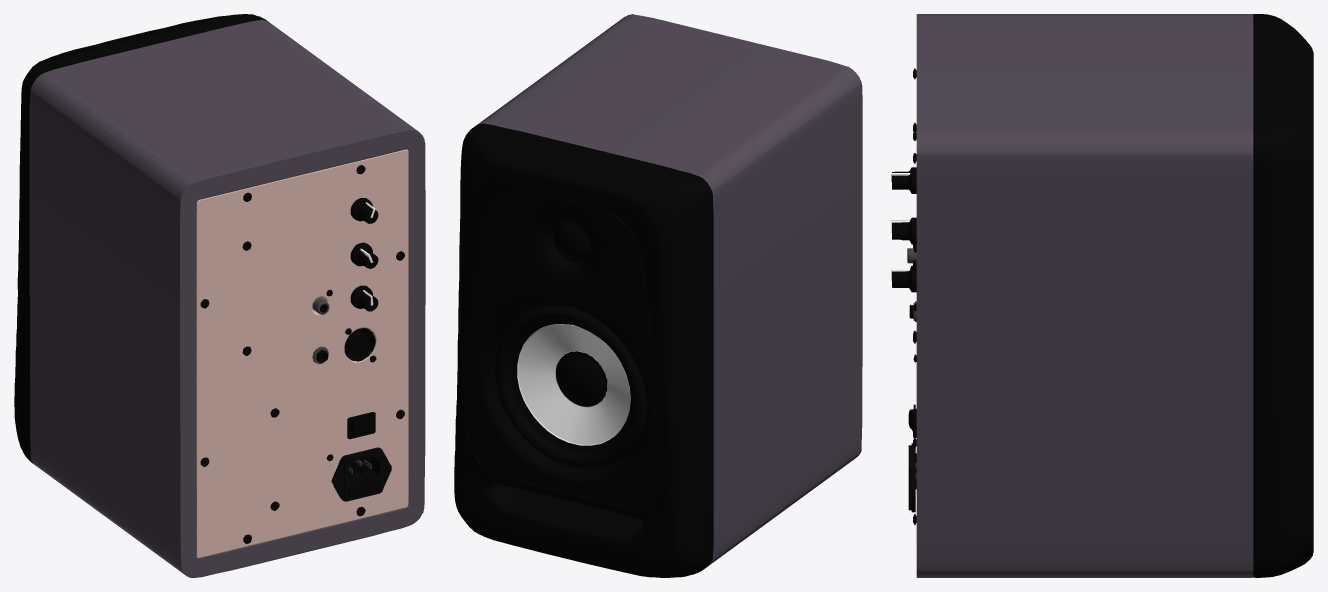
Rendered from Speaker2.glb.
3 views of the same model, side by side, from view 1: azimuth 30°, elevation 25°; view 2: azimuth 150°, elevation 25°; view 3: azimuth 270°, elevation 25° (orthographic). The views are drawn at different scales.
Visible parts, largest first — view 1: default; view 2: default; view 3: default.
Part boxes in pixels (<box>): default: <box>14,14,425,577</box>; default: <box>454,14,862,577</box>; default: <box>891,14,1313,577</box>.
Size of the model in its own units: 1.49 by 2.3 by 1.97.
